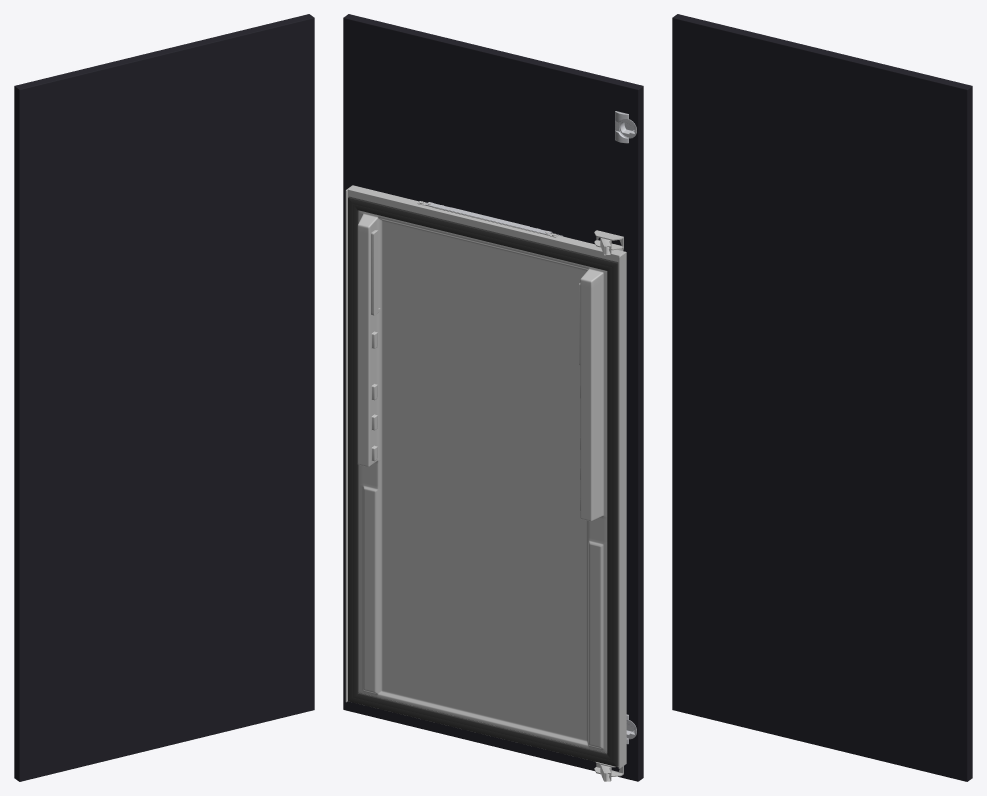
Rendered from SM_Fridge_Door_01.dae.
The picture shows the model from 3 angles, left to right: view 1: azimuth 30°, elevation 25°; view 2: azimuth 150°, elevation 25°; view 3: azimuth 330°, elevation 25°; orthographic projection.
Visible parts, largest first — view 1: SM_Fridge_Door_01; view 2: SM_Fridge_Door_01; view 3: SM_Fridge_Door_01.
Part boxes in pixels (box(x1,y1,x2,y2)): SM_Fridge_Door_01: box(14, 14, 314, 781); SM_Fridge_Door_01: box(343, 14, 643, 781); SM_Fridge_Door_01: box(672, 14, 972, 781).
Bounding box in the file's own units: 0.5969 × 0.0789 × 1.34.
